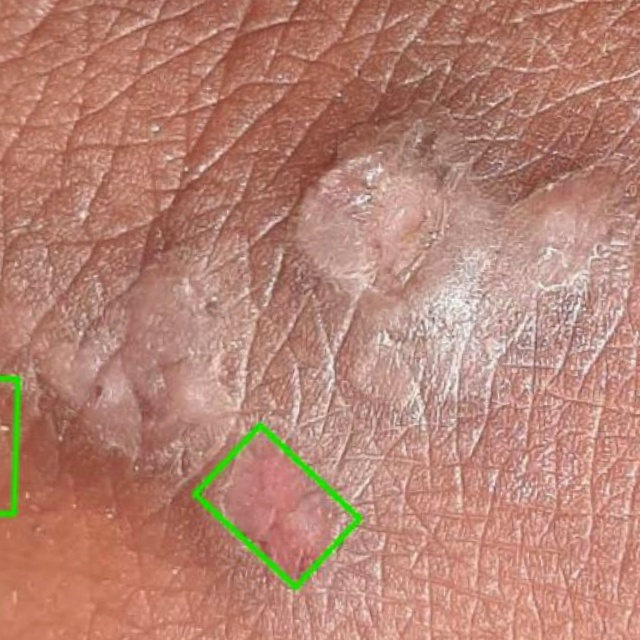Contact Dermatitis: (196, 425, 360, 588)
